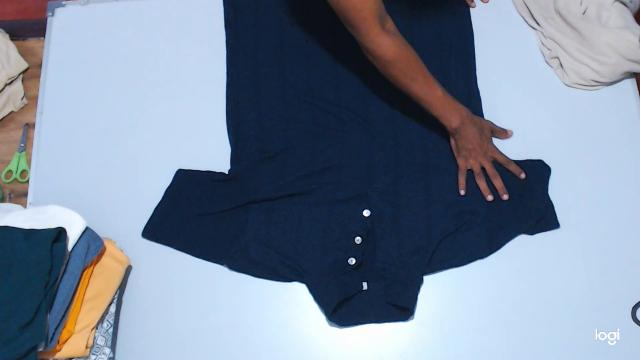new-garment: (143, 0, 559, 326), (388, 0, 483, 116)
